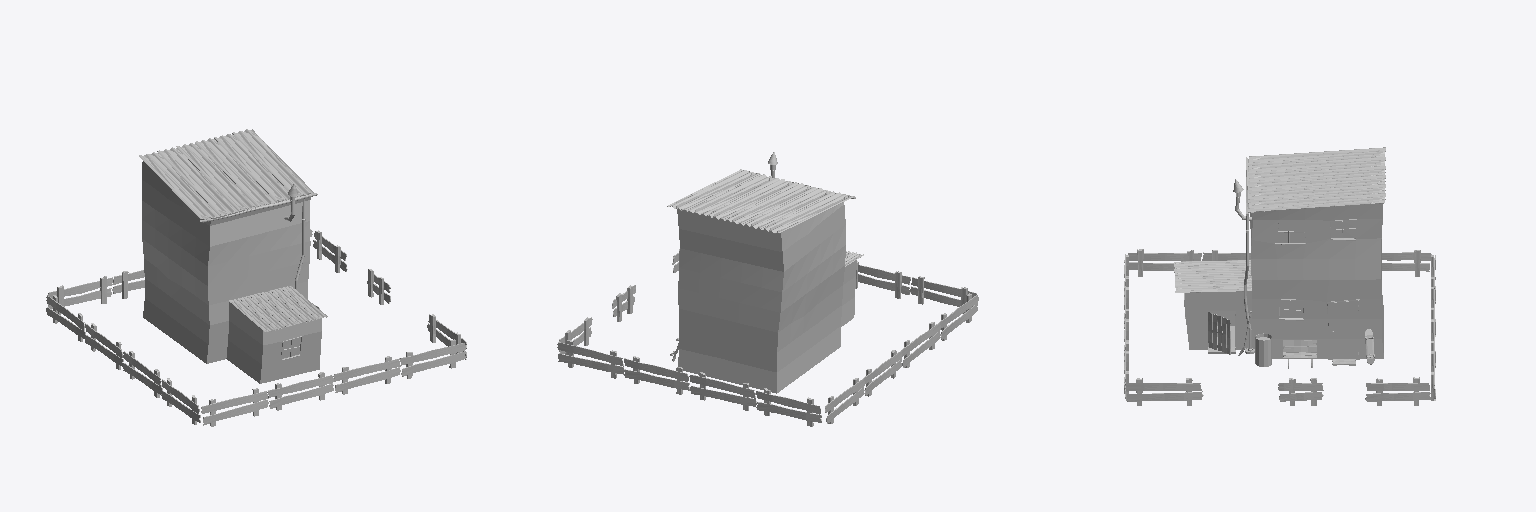
Rendered from shelter.obj.
The picture shows the model from 3 angles: view 1: azimuth 30°, elevation 25°; view 2: azimuth 150°, elevation 25°; view 3: azimuth 270°, elevation 25°; orthographic projection.
Parts seen in each view (by area): view 1: shelter2; view 2: shelter2; view 3: shelter2.
Boxes of the visible parts, x1,y1,x2,y2 form: shelter2: [46, 129, 466, 426]; shelter2: [557, 152, 978, 426]; shelter2: [1124, 147, 1435, 405].
Size of the model in its own units: 526 by 317 by 529.